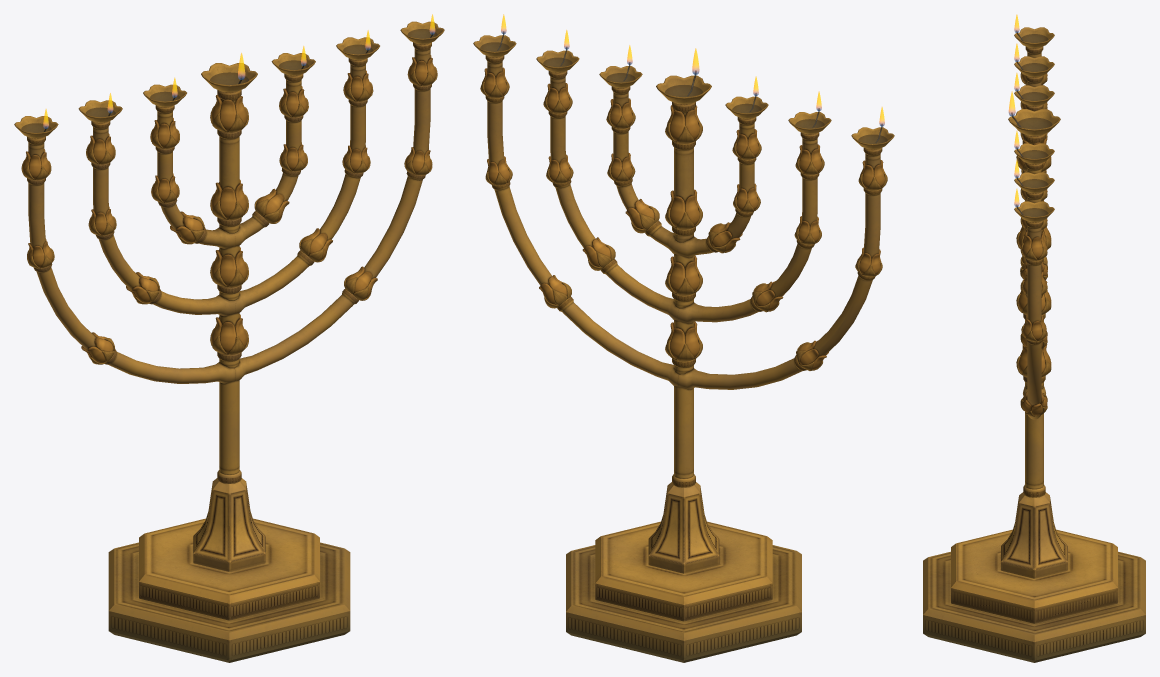
File: SM_GoldLampstand.glb
3 views of the same model, side by side, from view 1: azimuth 30°, elevation 25°; view 2: azimuth 150°, elevation 25°; view 3: azimuth 270°, elevation 25° (orthographic). The views are drawn at different scales.
Visible parts, largest first — view 1: SM_GoldLampstand, SM_Oil, SM_Candles; view 2: SM_GoldLampstand, SM_Oil, SM_Candles; view 3: SM_GoldLampstand, SM_Oil, SM_Candles.
Part boxes in pixels (x1,y1,x2,y2): SM_GoldLampstand: [14, 21, 444, 662]; SM_Oil: [21, 29, 437, 132]; SM_Candles: [43, 14, 435, 128]; SM_GoldLampstand: [473, 35, 894, 662]; SM_Oil: [480, 42, 887, 143]; SM_Candles: [501, 14, 884, 126]; SM_GoldLampstand: [923, 27, 1145, 662]; SM_Oil: [1016, 34, 1052, 216]; SM_Candles: [1008, 14, 1019, 207].
Bounding box in the file's own units: 1.31 × 1.67 × 0.6495.
Materials: 2 (2 with a texture image).
